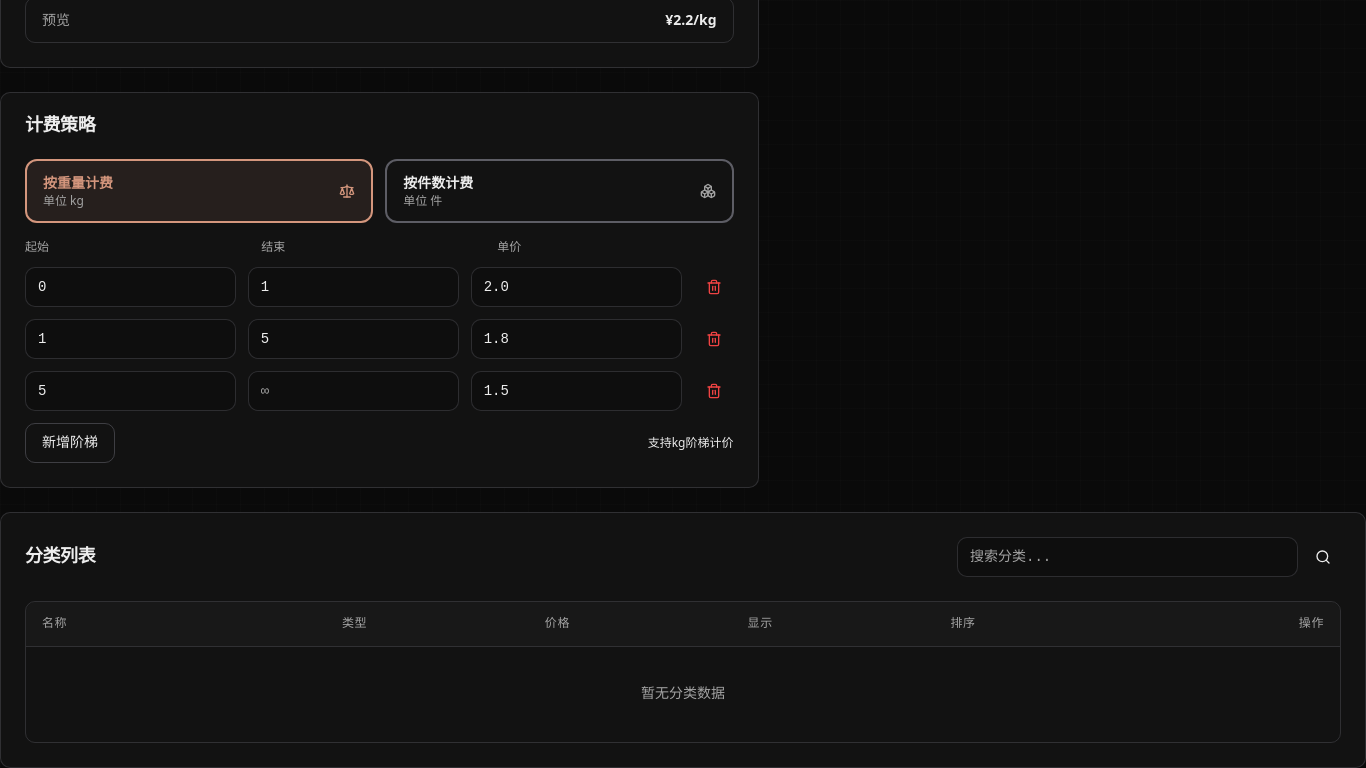
Test case: CategoriesPage › adds tier rows for billing strategy
(page scrolled)
Expected: the heading "计费策略" is shown, [25,116,95,136]
Click the button "新增阶梯".
click(70, 443)  # box [25,423,115,463]
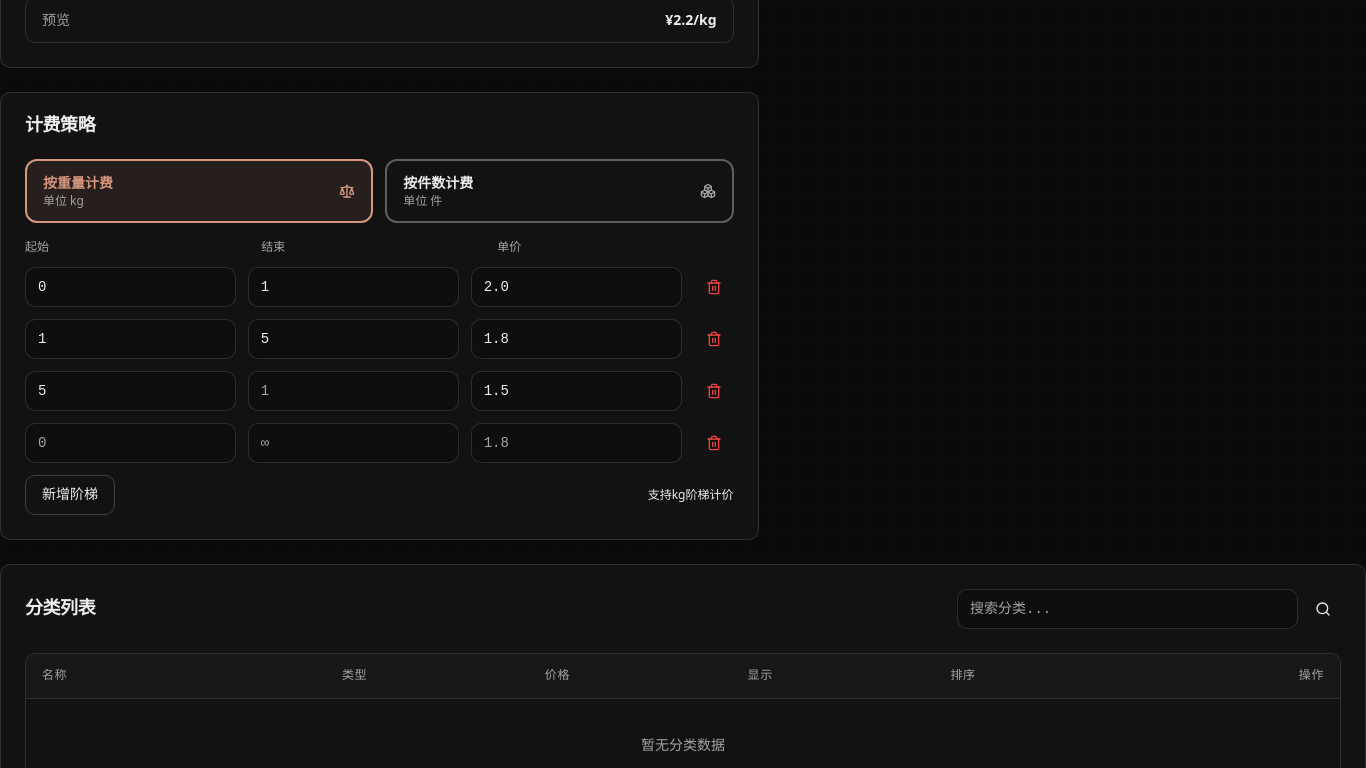
Result: the number of fields with placeholder "1.8" is 4 at [471,267,682,307]; [471,319,682,359]; [471,371,682,411]; [471,423,682,463]
